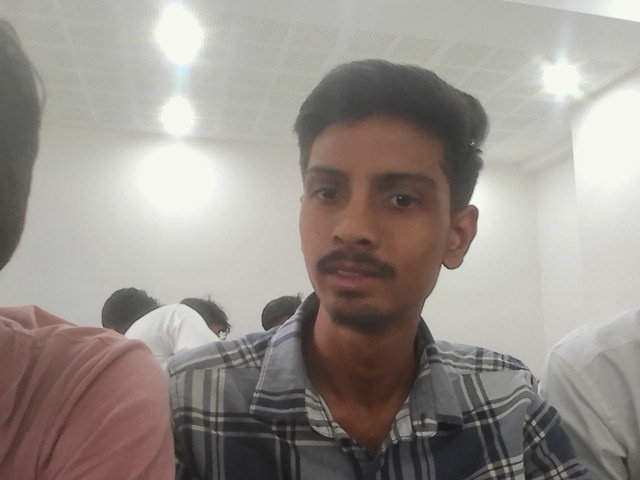fan_on: (340, 94, 370, 154)
light_off: (446, 118, 491, 159)
light_on: (143, 17, 222, 142), (531, 52, 585, 103), (629, 10, 640, 25)
person: (0, 53, 160, 480), (278, 71, 462, 437)
